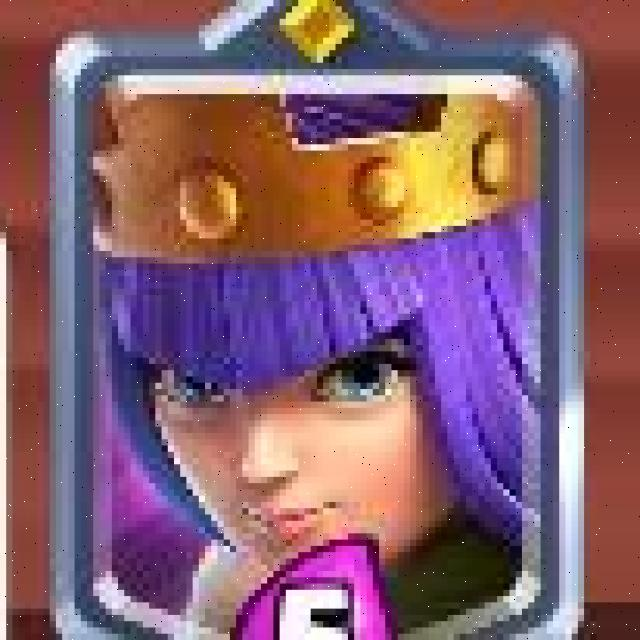Archer_Queen: (45, 0, 600, 640)
